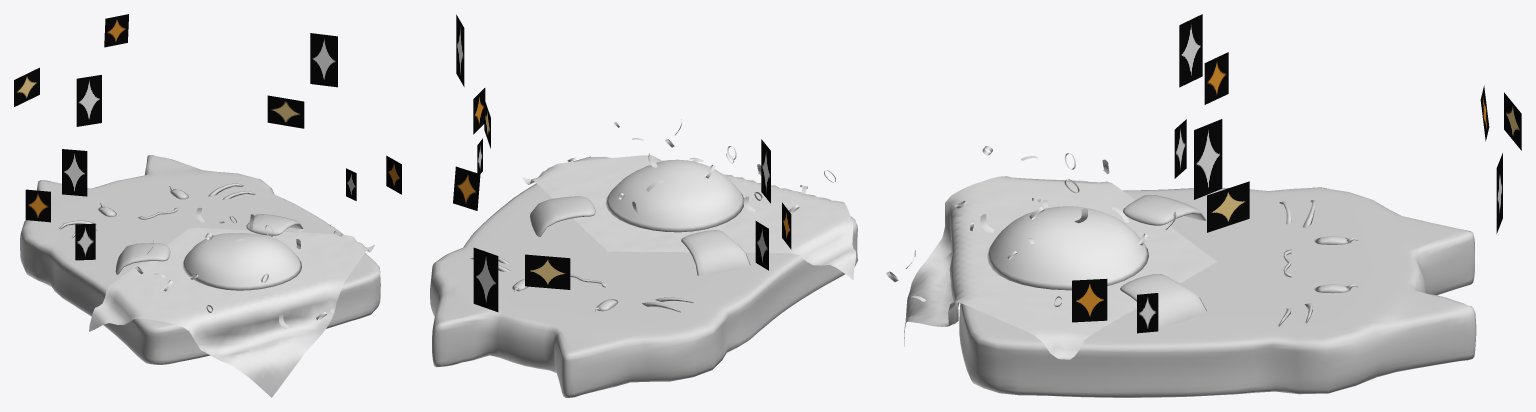
File: Kitty Breadfast.dae
3 renders of one model, left to right at view 1: azimuth 30°, elevation 25°; view 2: azimuth 150°, elevation 25°; view 3: azimuth 270°, elevation 25°, orthographic. The views are drawn at different scales.
Visible parts, largest first — view 1: Bread, Egg_White, Yolk, Sparkle, Sparkle.002, Sparkle.009, Sparkle.007, Hand.001, Hand.002, Sparkle.008, Sparkle.003, Sparkle.005 (+2 smaller); view 2: Bread, Egg_White, Yolk, Hand.001, Hand.002, Sparkle.005, Sparkle.002, Sparkle.006, Sparkle.003, Sparkle, Sparkle.009, Sparkle.004; view 3: Bread, Egg_White, Yolk, Hand.002, Sparkle, Hand.001, Sparkle.007, Sparkle.004, Sparkle.009, Sparkle.008, Sparkle.001, Sparkle.005 (+1 smaller).
Part boxes in pixels (x1=…): Bread: x1=20, y1=155, x2=380, y2=364; Egg_White: x1=89, y1=227, x2=374, y2=397; Yolk: x1=182, y1=233, x2=301, y2=290; Sparkle: x1=310, y1=33, x2=337, y2=87; Sparkle.002: x1=76, y1=75, x2=101, y2=126; Sparkle.009: x1=62, y1=149, x2=87, y2=196; Sparkle.007: x1=267, y1=95, x2=304, y2=128; Hand.001: x1=115, y1=243, x2=170, y2=274; Hand.002: x1=246, y1=214, x2=303, y2=235; Sparkle.008: x1=25, y1=189, x2=50, y2=222; Sparkle.003: x1=75, y1=223, x2=95, y2=260; Sparkle.005: x1=14, y1=67, x2=39, y2=106; Bread: x1=430, y1=156, x2=857, y2=397; Egg_White: x1=522, y1=155, x2=855, y2=280; Yolk: x1=605, y1=159, x2=743, y2=232; Hand.001: x1=681, y1=230, x2=750, y2=275; Hand.002: x1=530, y1=196, x2=595, y2=236; Sparkle.005: x1=525, y1=254, x2=570, y2=289; Sparkle.002: x1=473, y1=247, x2=498, y2=311; Sparkle.006: x1=453, y1=166, x2=480, y2=210; Sparkle.003: x1=755, y1=221, x2=768, y2=270; Sparkle: x1=456, y1=14, x2=464, y2=86; Sparkle.009: x1=761, y1=139, x2=770, y2=203; Sparkle.004: x1=473, y1=88, x2=485, y2=134; Bread: x1=959, y1=187, x2=1476, y2=397; Egg_White: x1=904, y1=176, x2=1216, y2=359; Yolk: x1=987, y1=206, x2=1148, y2=290; Hand.002: x1=1120, y1=274, x2=1206, y2=328; Sparkle: x1=1194, y1=119, x2=1222, y2=199; Hand.001: x1=1123, y1=195, x2=1206, y2=225; Sparkle.007: x1=1207, y1=181, x2=1249, y2=232; Sparkle.004: x1=1072, y1=279, x2=1107, y2=322; Sparkle.009: x1=1179, y1=14, x2=1202, y2=87; Sparkle.008: x1=1204, y1=52, x2=1228, y2=104; Sparkle.001: x1=1137, y1=293, x2=1158, y2=333; Sparkle.005: x1=1504, y1=92, x2=1521, y2=150.
Bounding box in the file's own units: 0.1938 × 0.2436 × 0.1405.
